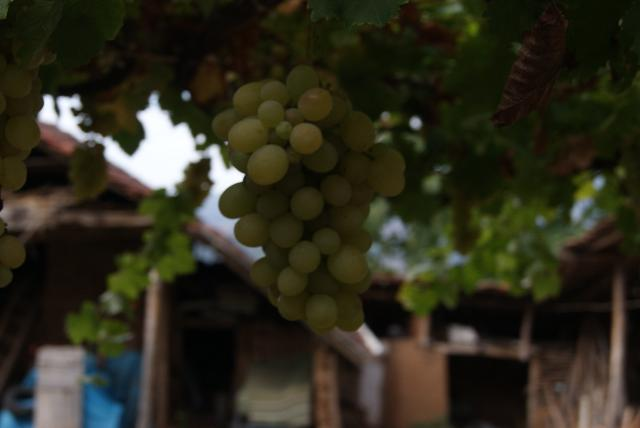grapes: (211, 65, 405, 335)
